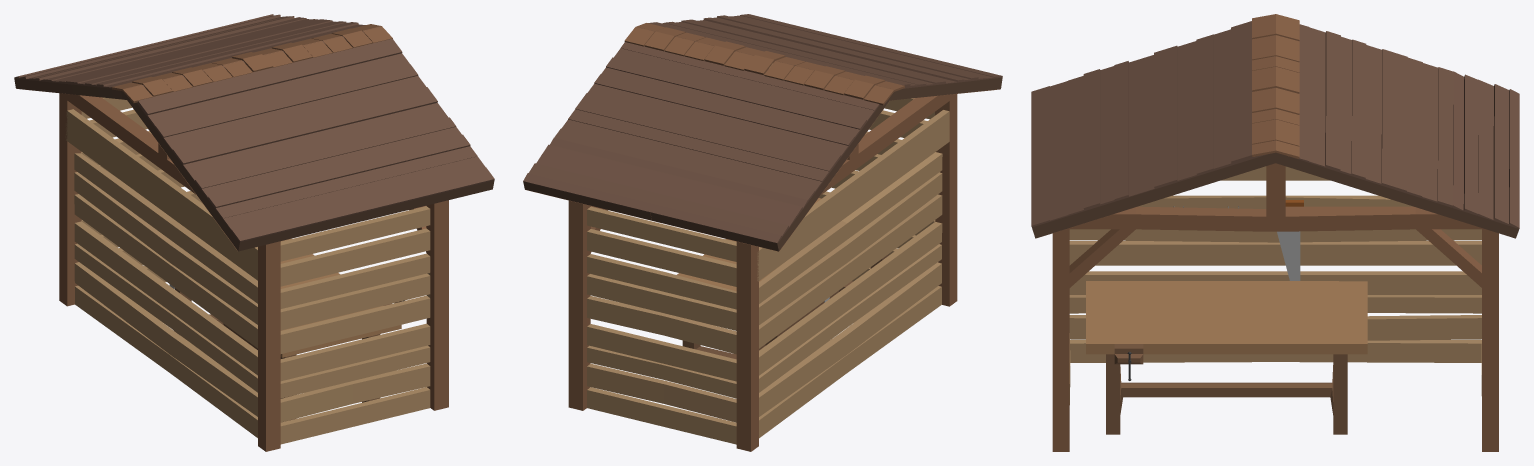
Rendered from Wooden_Shed.fbx.
3 renders of one model, left to right at view 1: azimuth 30°, elevation 25°; view 2: azimuth 150°, elevation 25°; view 3: azimuth 270°, elevation 25°, orthographic. The views are drawn at different scales.
Visible parts, largest first — view 1: Wooden_Shed, Workbench; view 2: Wooden_Shed, Workbench; view 3: Wooden_Shed, Workbench, Saw.
Boxes of the visible parts, <box> form: Wooden_Shed: <box>14,14,494,451</box>; Workbench: <box>174,238,401,420</box>; Wooden_Shed: <box>523,14,1002,451</box>; Workbench: <box>677,198,888,359</box>; Wooden_Shed: <box>1031,14,1519,451</box>; Workbench: <box>1086,281,1367,434</box>; Saw: <box>1277,200,1303,280</box>.
Bounding box in the file's own units: 374 × 418 × 565.
